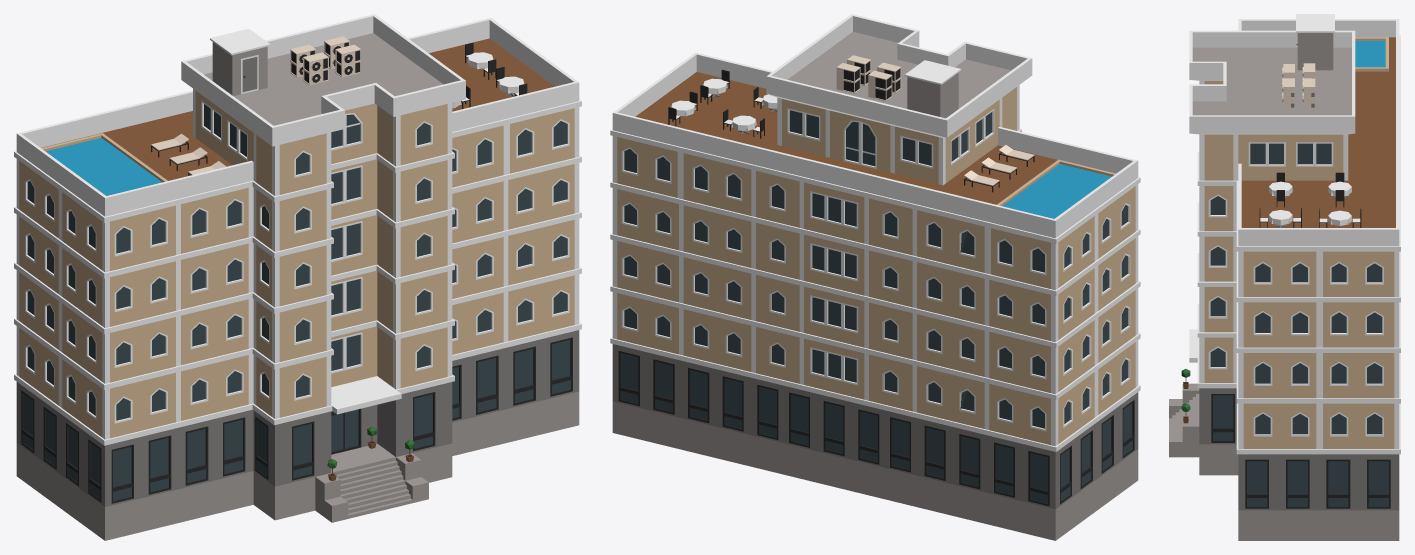
Rendered from buildings_building-hotel.fbx.
3 views of the same model, side by side, from view 1: azimuth 30°, elevation 25°; view 2: azimuth 150°, elevation 25°; view 3: azimuth 270°, elevation 25° (orthographic). The views are drawn at different scales.
Parts seen in each view (by area): view 1: buildings_building_hotel; view 2: buildings_building_hotel; view 3: buildings_building_hotel.
Boxes of the visible parts, x1,y1,x2,y2 form: buildings_building_hotel: (14,14,581,540); buildings_building_hotel: (610,14,1140,540); buildings_building_hotel: (1169,14,1400,540).
Bounding box in the file's own units: 200 × 170 × 92.57.
